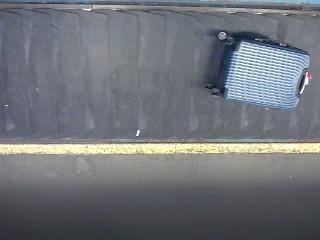Suitcase: (210, 26, 310, 116)
